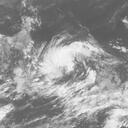cyclone: (44, 45, 106, 109)
